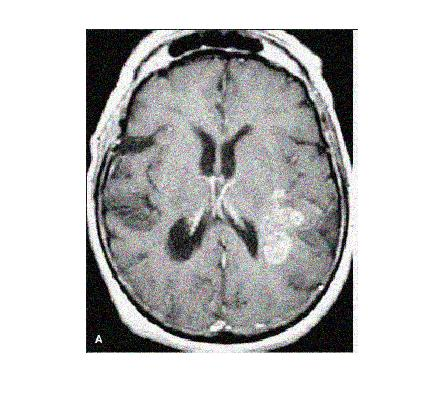Brain_Cancer: (108, 143, 167, 223)
